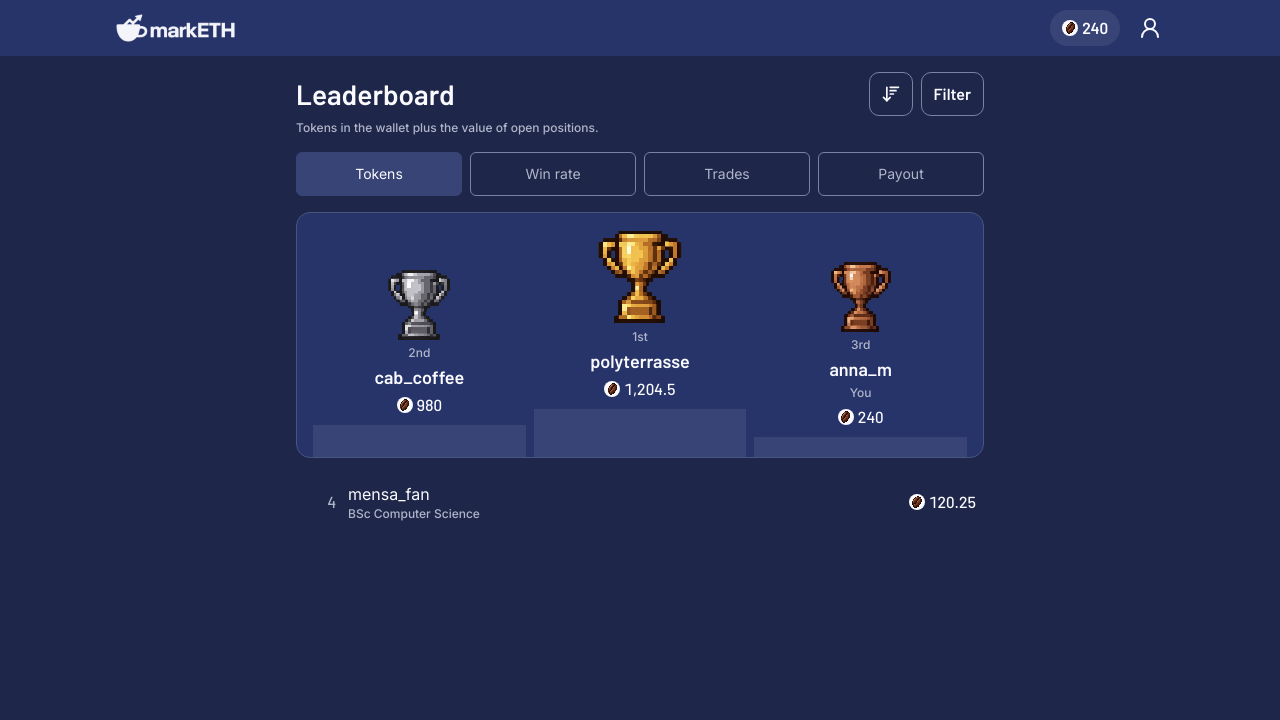
the statistics of a player › a tap on a row opens them, built from that row alone: the API is asked for nothing
The image size is (1280, 720).
Expected: the text "mensa_fan" is shown, [348, 482, 430, 506]
Click the button "4 mensa_fan BSc Computer Science 120.25" at (344, 500), box [296, 474, 984, 530]
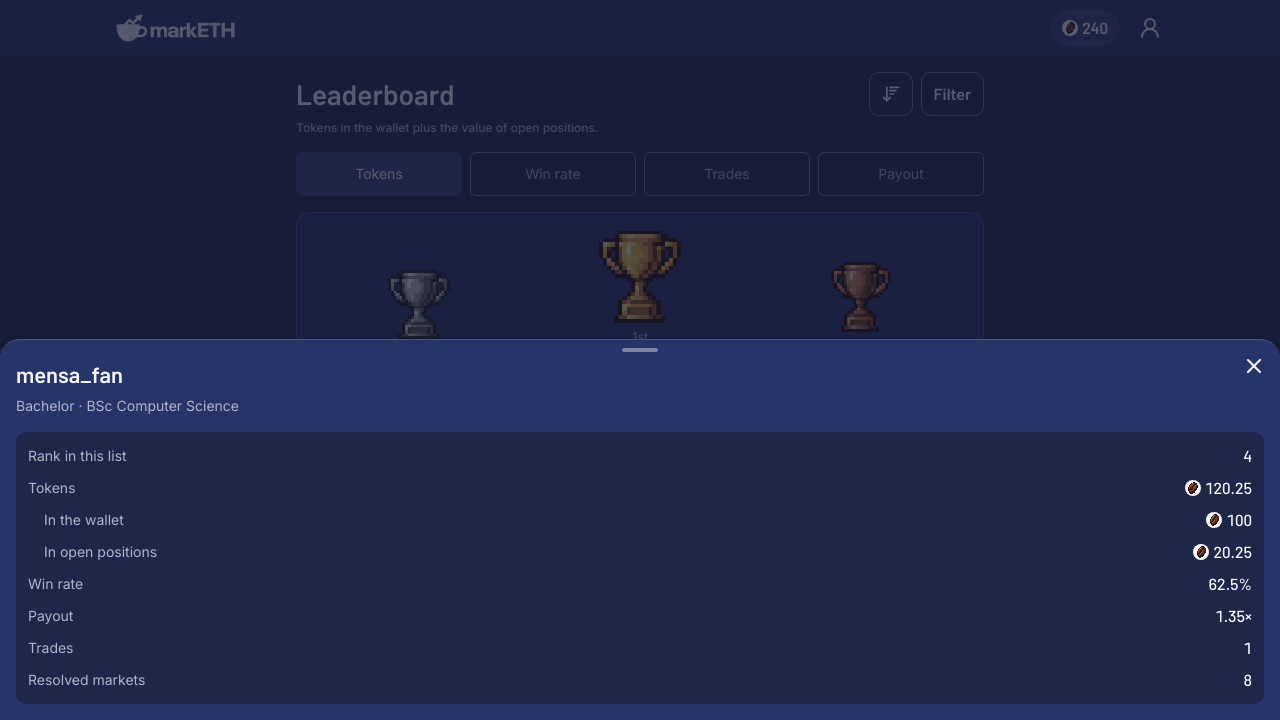
Now the heading "mensa_fan" is shown, box [16, 361, 123, 387]
Now the text "4" is shown, box [1244, 444, 1252, 468]
Now the text "62.5%" is shown, box [1209, 572, 1252, 596]
